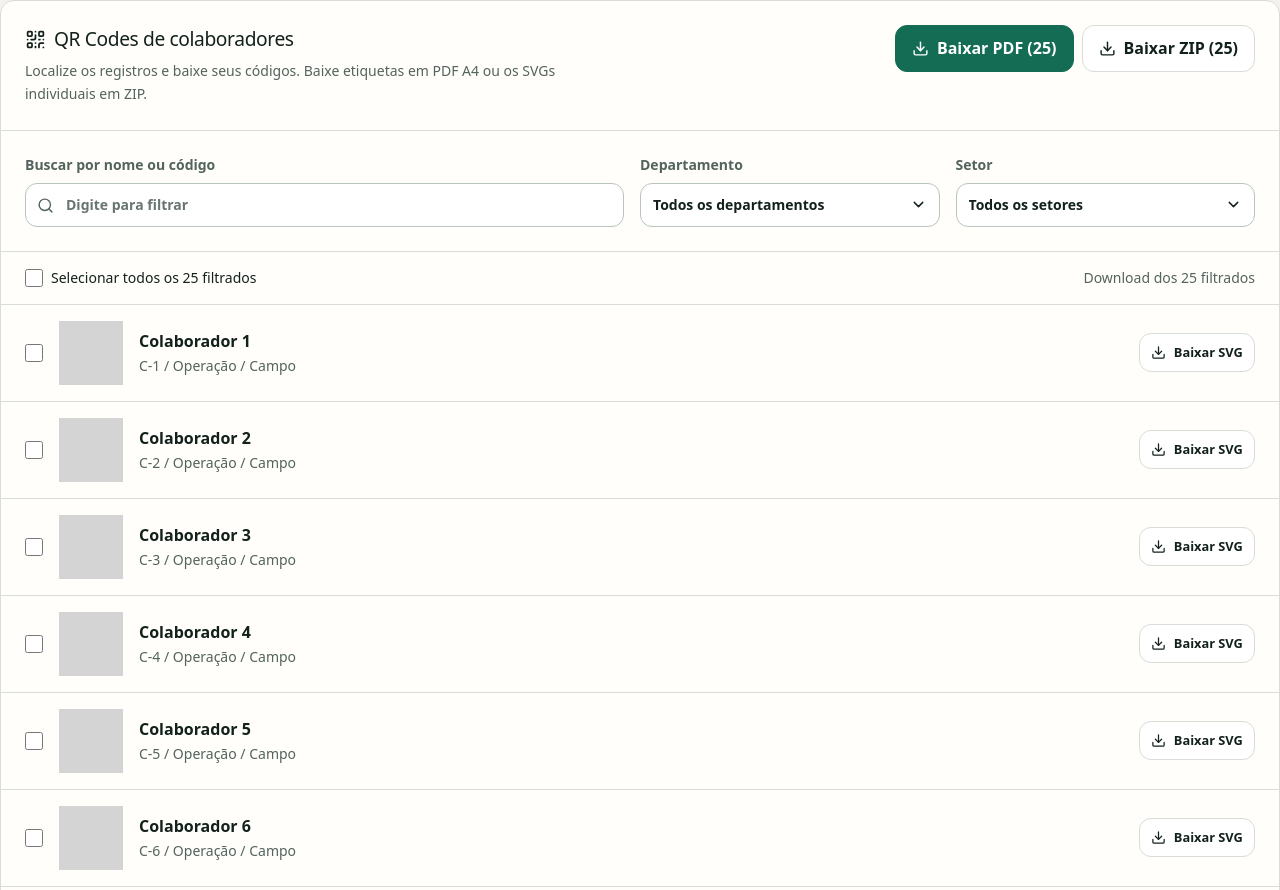
Test: QR Code downloads › reports download failure and leaves controls available for retry
What coordinates should you click on to do the following:
click the button "Baixar PDF (25)"
I would click on:
 (984, 48)
Its box is [895,25,1074,72].
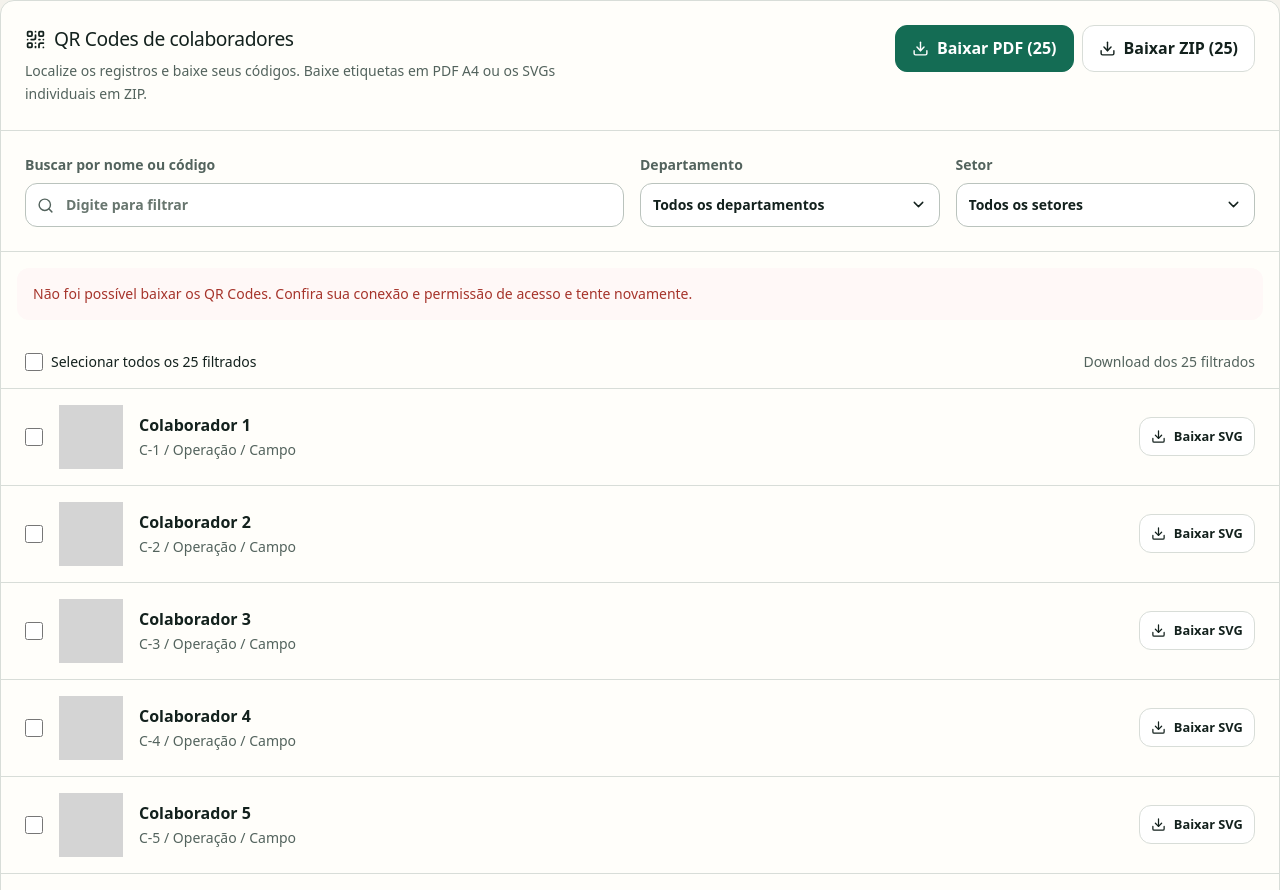
Check: the 1st message shows "Não foi possível baixar", box [33,284,692,303]
